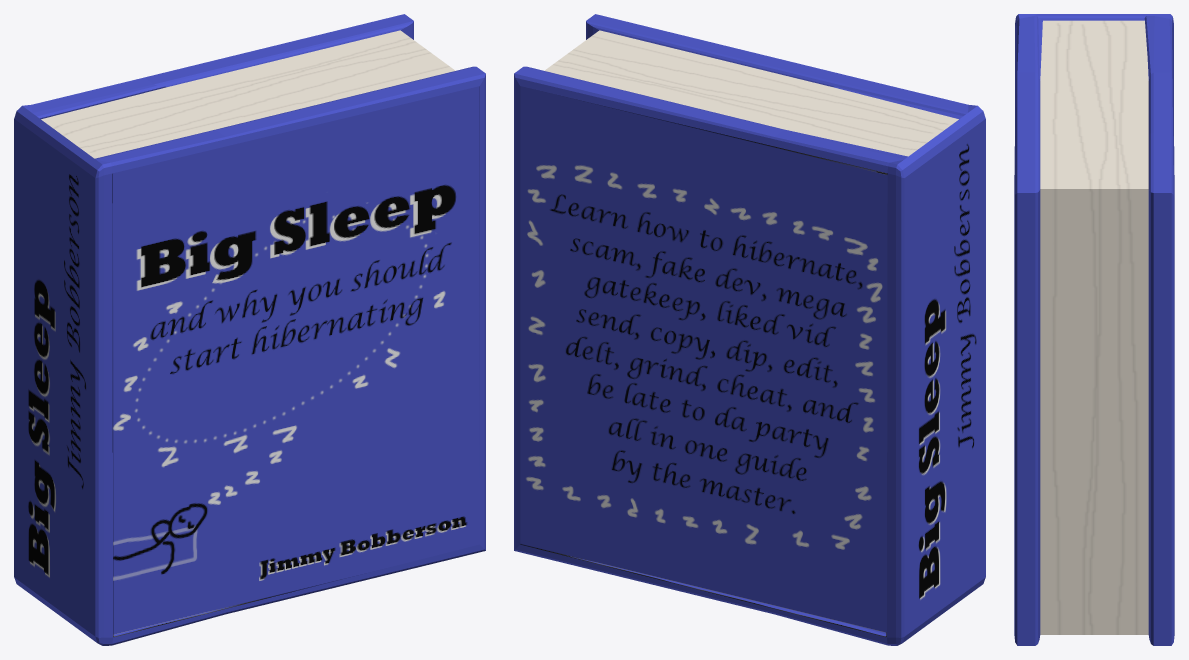
Rendered from Book2.fbx.
3 renders of one model, left to right at view 1: azimuth 30°, elevation 25°; view 2: azimuth 150°, elevation 25°; view 3: azimuth 270°, elevation 25°, orthographic. The views are drawn at different scales.
Visible parts, largest first — view 1: Cube; view 2: Cube; view 3: Cube.
Part boxes in pixels (x1,y1,x2,y2): Cube: (14, 14, 485, 645); Cube: (514, 14, 985, 645); Cube: (1014, 14, 1174, 645).
Size of the model in its own units: 30 by 35.53 by 11.26.
Materials: 1 (1 with a texture image).
